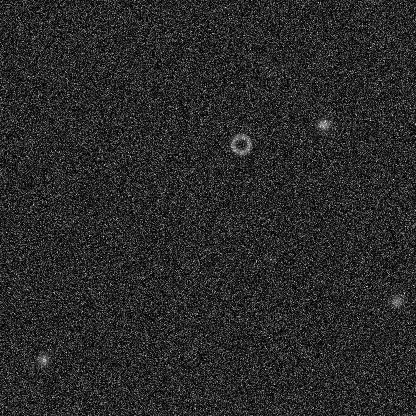Ring: (228, 132, 252, 156)
Spot: (388, 293, 404, 309), (35, 351, 51, 367), (261, 251, 277, 267), (315, 116, 331, 132)
